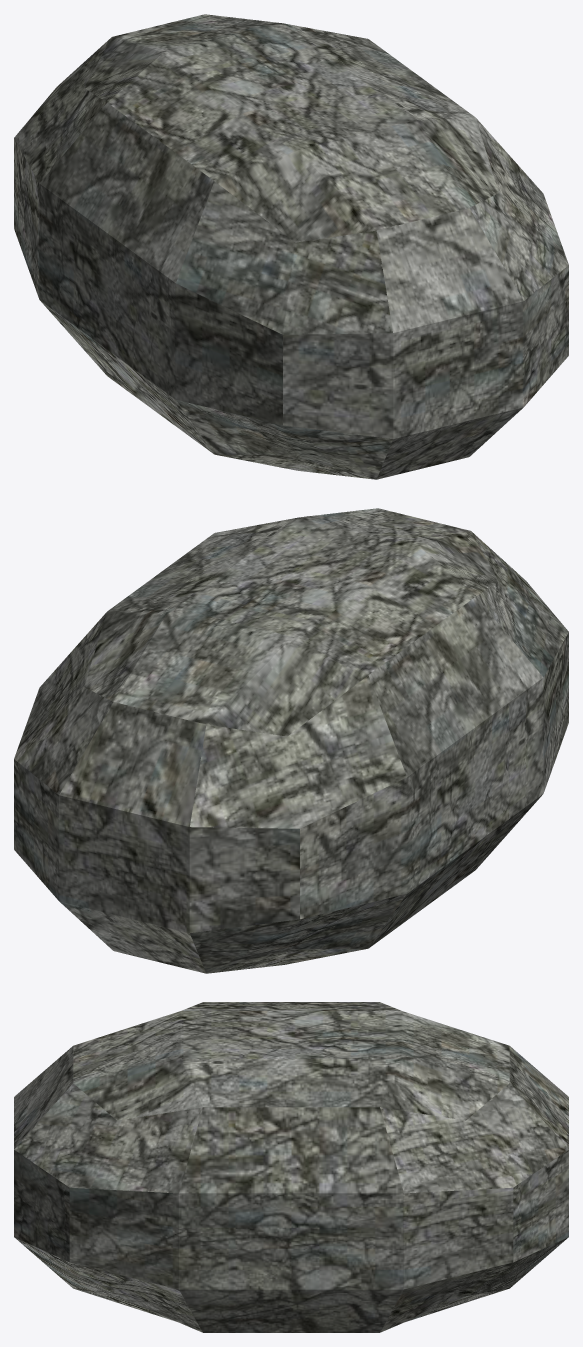
Rendered from rock.FBX.
3 renders of one model, top to bottom at view 1: azimuth 30°, elevation 25°; view 2: azimuth 150°, elevation 25°; view 3: azimuth 270°, elevation 25°, orthographic. The views are drawn at different scales.
Parts seen in each view (by area): view 1: Box001; view 2: Box001; view 3: Box001.
Part boxes in pixels (x1,y1,x2,y2): Box001: [14, 14, 568, 479]; Box001: [14, 508, 568, 973]; Box001: [14, 1002, 568, 1332].
Size of the model in its own units: 14.24 by 11.85 by 22.57.
